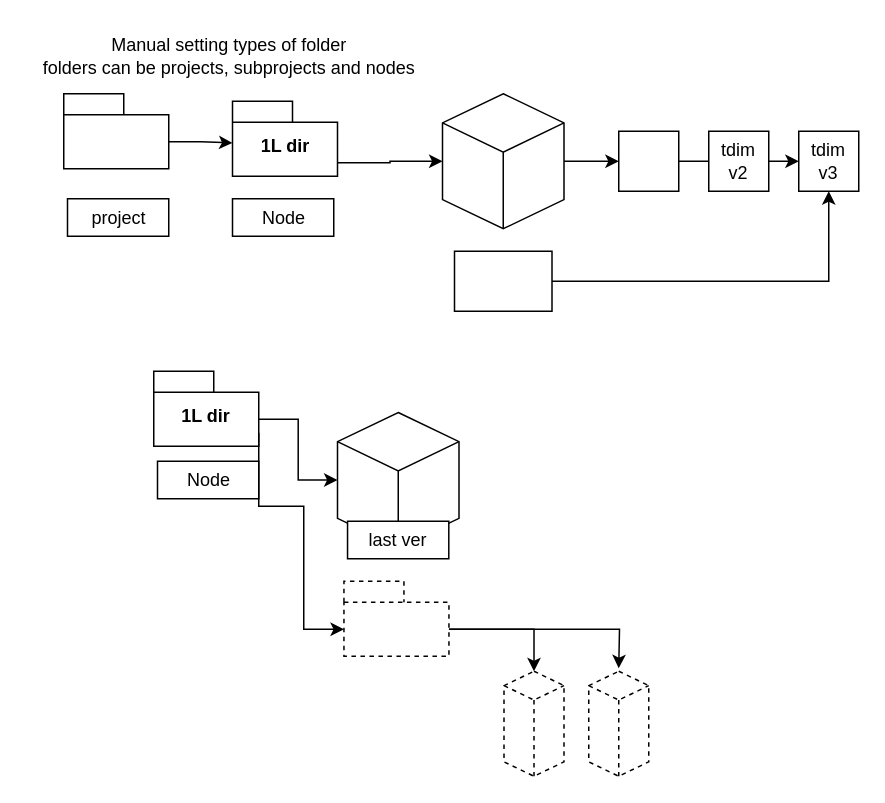
Image size: 885x803. Some labels were removed from this diagram. The centre of each missing label's shape, as x and y in pixels:
"0L dir" belongs at pixel 115 130.
"MODEL V3" belongs at pixel 502 280.
"old ver (hidden)" belongs at pixel 395 618.
"tdim v1" belongs at pixel 648 160.
